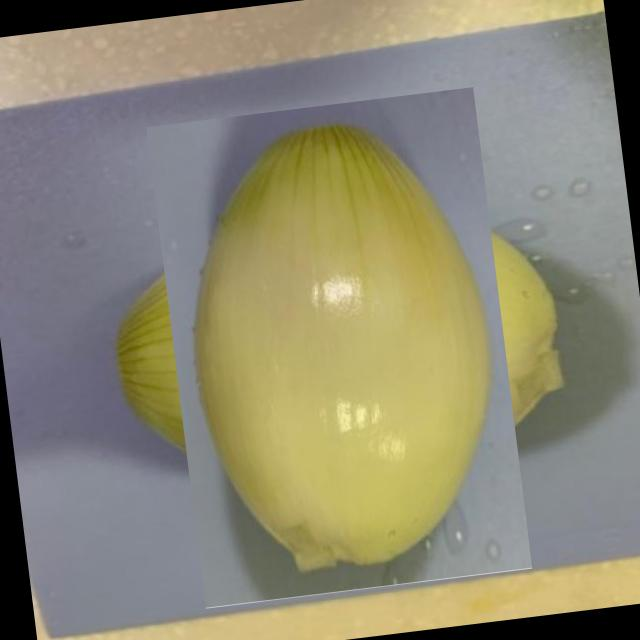Onion: (112, 120, 566, 574)
